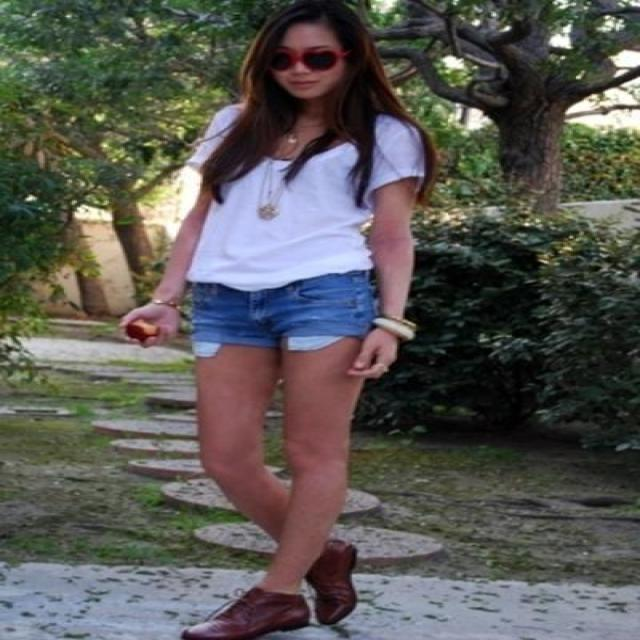shirt: (186, 103, 424, 290)
shoe: (181, 540, 357, 639)
shorts: (173, 269, 389, 360)
sunglass: (288, 48, 336, 70)
